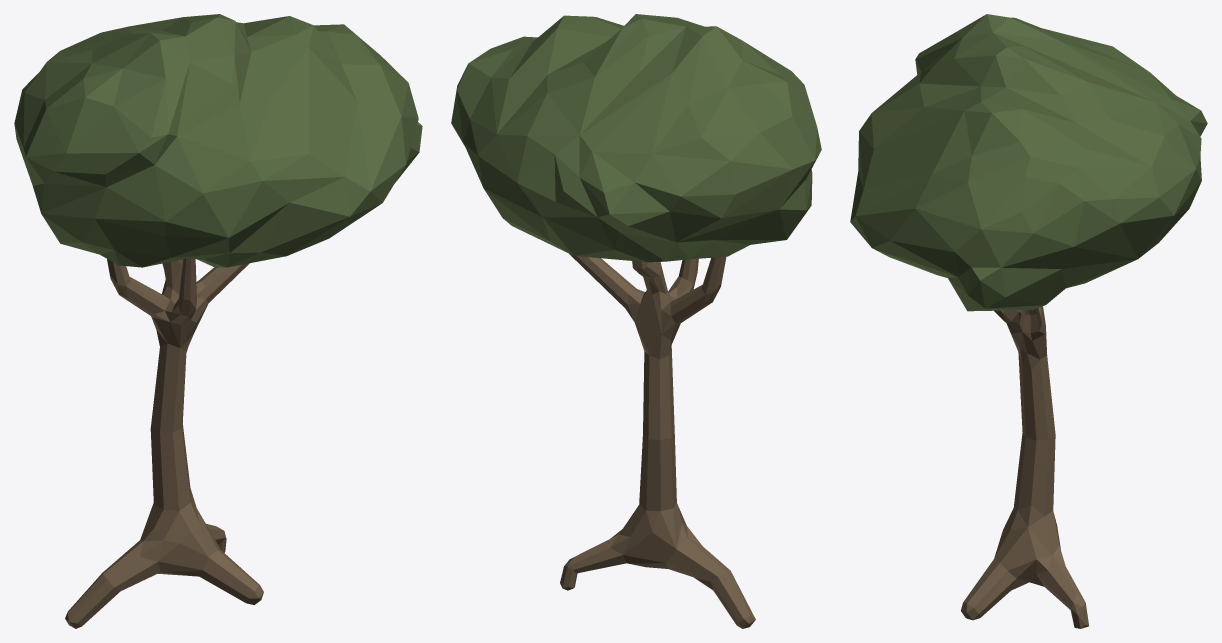
Rendered from SM_Envr_Nature_Tree_07.fbx.
The picture shows the model from 3 angles, left to right: view 1: azimuth 30°, elevation 25°; view 2: azimuth 150°, elevation 25°; view 3: azimuth 270°, elevation 25°; orthographic projection. The views are drawn at different scales.
Parts seen in each view (by area): view 1: SM_Envr_Nature_Tree_07; view 2: SM_Envr_Nature_Tree_07; view 3: SM_Envr_Nature_Tree_07.
Boxes of the visible parts, box(x1,y1,x2,y2) form: SM_Envr_Nature_Tree_07: box(14, 14, 422, 628); SM_Envr_Nature_Tree_07: box(451, 14, 821, 628); SM_Envr_Nature_Tree_07: box(850, 14, 1207, 628).
Size of the model in its own units: 281 by 422 by 236.
